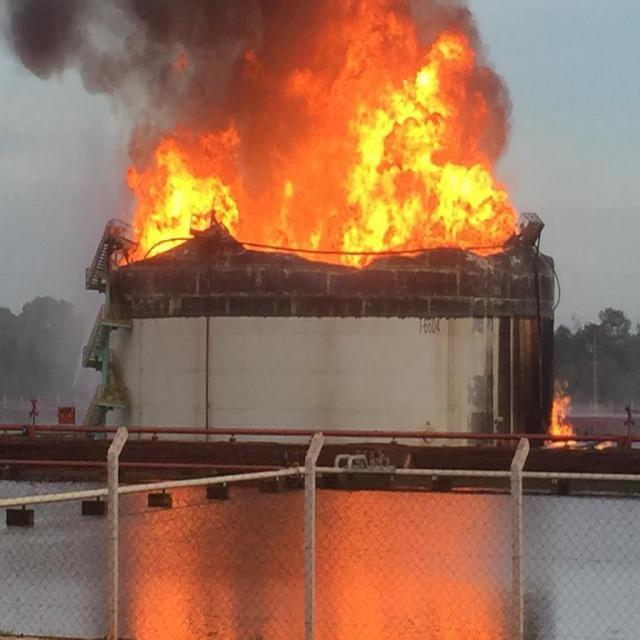Fire: (115, 40, 503, 269), (544, 387, 576, 445)
